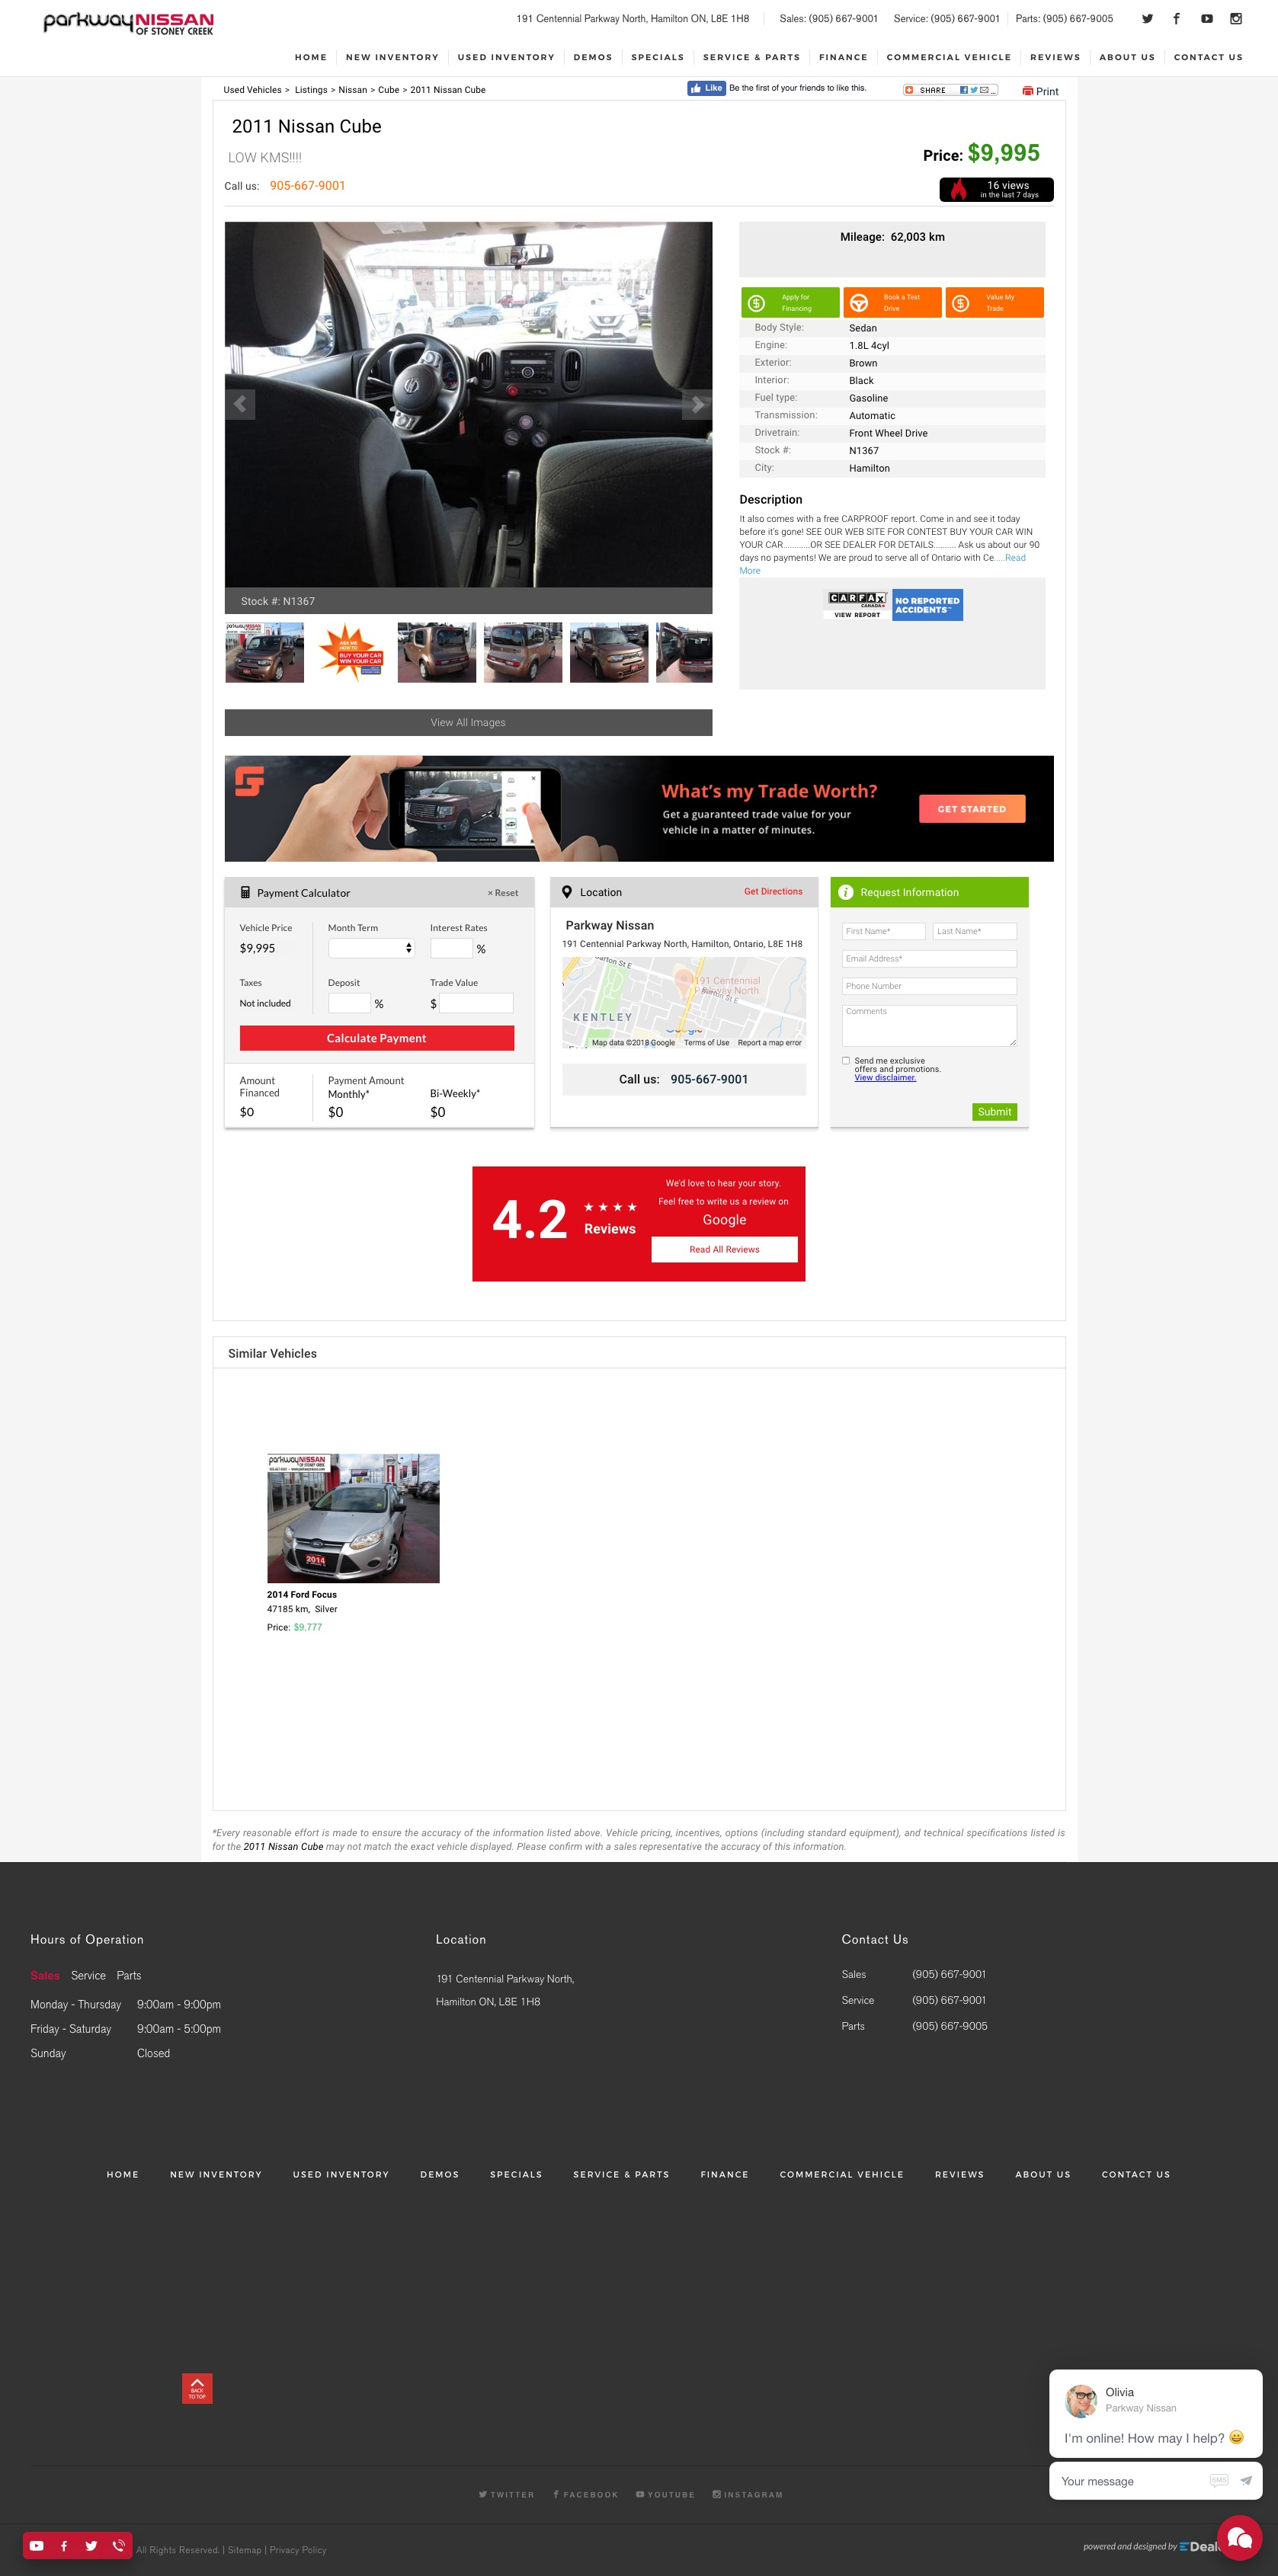car: (680, 389, 718, 422)
